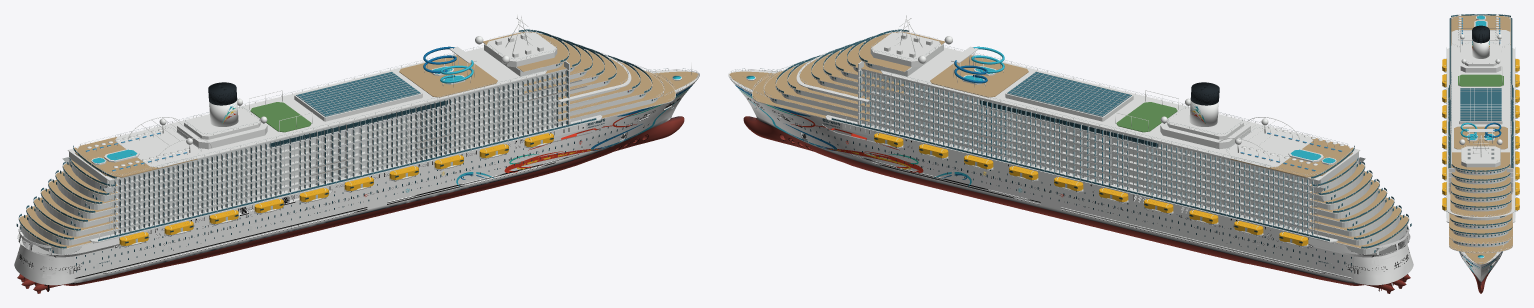
File: shipModelData-cruise.glb
The picture shows the model from 3 angles, left to right: view 1: azimuth 30°, elevation 25°; view 2: azimuth 150°, elevation 25°; view 3: azimuth 270°, elevation 25°; orthographic projection. The views are drawn at different scales.
Visible parts, largest first — view 1: 改造 | 救生艇上方连续步行甲板, 复用船壳 | 原分组55, 复用客房 | 阳台门窗栏板 | 原分组09, 改造 | 封闭中央客房主体, 前楼 | 第01层木色走道, 复用客房 | 阳台门窗栏板 | 原分组62, 救生艇 | 右舷01黄色封闭顶舱, 驾驶台 | 环绕深色玻璃 | 深蓝黑观察玻璃, 船尾 | 第01层蓝玻璃 | 扶手 | 银灰栏杆金属, 后部 | 绿色休闲运动区, 烟囱 | 爱达四色帆形标志 | 彩带朱红, 中部 | 蓝色螺旋水滑道 | 彩带深蓝 (+2 smaller); view 2: 改造 | 救生艇上方连续步行甲板, 复用船壳 | 原分组55, 复用客房 | 阳台门窗栏板 | 原分组09, 改造 | 封闭中央客房主体, 前楼 | 第01层木色走道, 复用客房 | 阳台门窗栏板 | 原分组62, 救生艇 | 右舷01黄色封闭顶舱, 驾驶台 | 环绕深色玻璃 | 深蓝黑观察玻璃, 船尾 | 第01层蓝玻璃 | 扶手 | 银灰栏杆金属, 后部 | 绿色休闲运动区, 中部 | 蓝色螺旋水滑道 | 彩带深蓝, 烟囱 | 爱达四色帆形标志 | 彩带朱红 (+2 smaller); view 3: 改造 | 救生艇上方连续步行甲板, 前楼 | 第01层木色走道, 复用客房 | 阳台门窗栏板 | 原分组62, 改造 | 封闭中央客房主体, 救生艇 | 右舷01黄色封闭顶舱, 船尾 | 第01层蓝玻璃 | 扶手 | 银灰栏杆金属, 后部 | 绿色休闲运动区, 复用客房 | 阳台门窗栏板 | 原分组09, 复用船壳 | 原分组55, 救生艇 | 右舷01细吊索 | 烟囱炭黑, 尾部 | 主露天泳池 | 蓝色水面, 中部 | 蓝色螺旋水滑道 | 彩带深蓝 (+3 smaller).
Part boxes in pixels (x1=…): 改造 | 救生艇上方连续步行甲板: x1=17, y1=14, x2=698, y2=250; 复用船壳 | 原分组55: x1=14, y1=70, x2=699, y2=293; 复用客房 | 阳台门窗栏板 | 原分组09: x1=62, y1=69, x2=601, y2=234; 改造 | 封闭中央客房主体: x1=21, y1=44, x2=658, y2=269; 前楼 | 第01层木色走道: x1=19, y1=32, x2=698, y2=248; 复用客房 | 阳台门窗栏板 | 原分组62: x1=16, y1=29, x2=656, y2=252; 救生艇 | 右舷01黄色封闭顶舱: x1=119, y1=133, x2=553, y2=245; 驾驶台 | 环绕深色玻璃 | 深蓝黑观察玻璃: x1=76, y1=89, x2=624, y2=272; 船尾 | 第01层蓝玻璃 | 扶手 | 银灰栏杆金属: x1=18, y1=29, x2=697, y2=246; 后部 | 绿色休闲运动区: x1=250, y1=102, x2=311, y2=132; 烟囱 | 爱达四色帆形标志 | 彩带朱红: x1=222, y1=111, x2=640, y2=196; 中部 | 蓝色螺旋水滑道 | 彩带深蓝: x1=423, y1=46, x2=692, y2=179; 改造 | 救生艇上方连续步行甲板: x1=729, y1=15, x2=1411, y2=250; 复用船壳 | 原分组55: x1=728, y1=70, x2=1413, y2=293; 复用客房 | 阳台门窗栏板 | 原分组09: x1=826, y1=69, x2=1365, y2=234; 改造 | 封闭中央客房主体: x1=770, y1=44, x2=1406, y2=269; 前楼 | 第01层木色走道: x1=729, y1=32, x2=1408, y2=248; 复用客房 | 阳台门窗栏板 | 原分组62: x1=771, y1=29, x2=1411, y2=252; 救生艇 | 右舷01黄色封闭顶舱: x1=874, y1=133, x2=1308, y2=245; 驾驶台 | 环绕深色玻璃 | 深蓝黑观察玻璃: x1=803, y1=89, x2=1351, y2=272; 船尾 | 第01层蓝玻璃 | 扶手 | 银灰栏杆金属: x1=730, y1=29, x2=1407, y2=246; 后部 | 绿色休闲运动区: x1=1116, y1=102, x2=1177, y2=132; 中部 | 蓝色螺旋水滑道 | 彩带深蓝: x1=735, y1=60, x2=987, y2=179; 烟囱 | 爱达四色帆形标志 | 彩带朱红: x1=787, y1=111, x2=1205, y2=197; 改造 | 救生艇上方连续步行甲板: x1=1442, y1=14, x2=1519, y2=264; 前楼 | 第01层木色走道: x1=1449, y1=15, x2=1512, y2=264; 复用客房 | 阳台门窗栏板 | 原分组62: x1=1448, y1=14, x2=1513, y2=245; 改造 | 封闭中央客房主体: x1=1453, y1=169, x2=1508, y2=247; 救生艇 | 右舷01黄色封闭顶舱: x1=1442, y1=58, x2=1519, y2=210; 船尾 | 第01层蓝玻璃 | 扶手 | 银灰栏杆金属: x1=1446, y1=14, x2=1515, y2=269; 后部 | 绿色休闲运动区: x1=1458, y1=74, x2=1503, y2=86; 复用客房 | 阳台门窗栏板 | 原分组09: x1=1448, y1=18, x2=1513, y2=194; 复用船壳 | 原分组55: x1=1459, y1=251, x2=1502, y2=293; 救生艇 | 右舷01细吊索 | 烟囱炭黑: x1=1472, y1=25, x2=1489, y2=43; 尾部 | 主露天泳池 | 蓝色水面: x1=1468, y1=15, x2=1493, y2=257; 中部 | 蓝色螺旋水滑道 | 彩带深蓝: x1=1459, y1=122, x2=1502, y2=267.
Bounding box in the file's own units: 324 × 72.2 × 45.9.
Materials: 19 (2 with a texture image).
